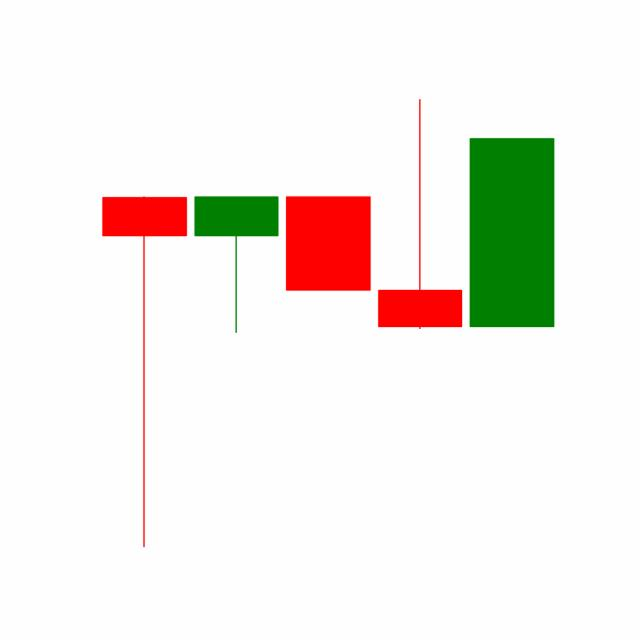Marubozu: (464, 136, 558, 329)
